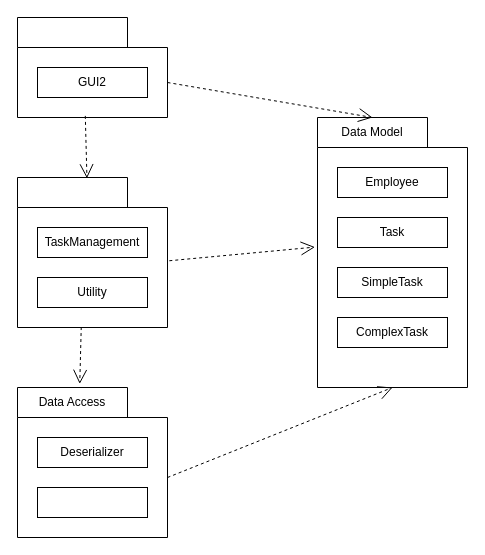
Image size: 485x555. Some labels were removed from this diagram. The shapes that lost their labels are listed below. From the top down, each one's box as (x1, y1, x2, y2) in pixels, then its label:
(16, 16, 168, 118): Graphical User Interface
(16, 176, 168, 328): Business Logic
(36, 486, 148, 518): Serializer
